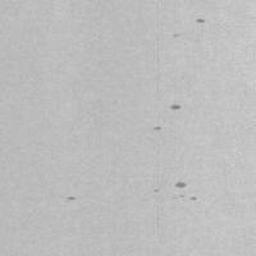Inclusion: (175, 182, 186, 188), (171, 104, 181, 110), (196, 18, 205, 23)
